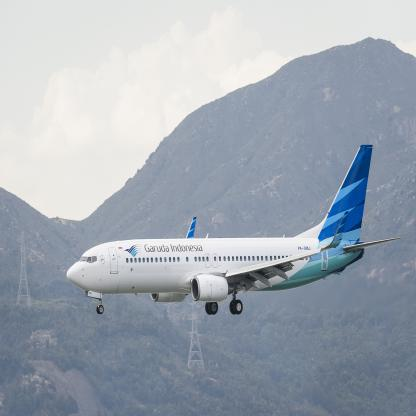CIV_Plane: (62, 141, 408, 320)
